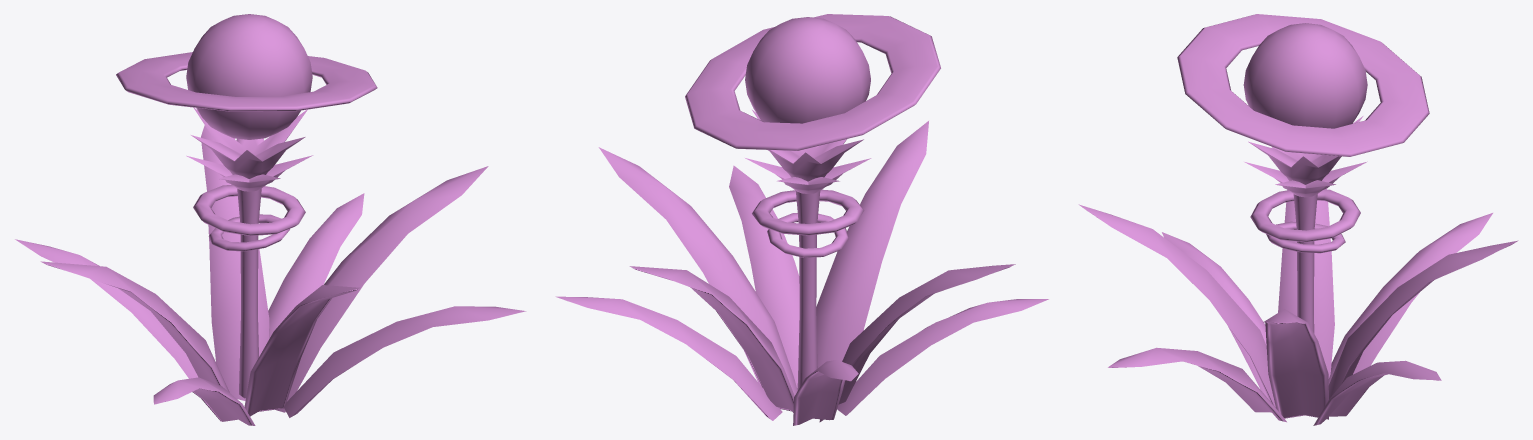
The model's file is planetPlant_stage3.fbx.
3 renders of one model, left to right at view 1: azimuth 30°, elevation 25°; view 2: azimuth 150°, elevation 25°; view 3: azimuth 270°, elevation 25°, orthographic. The views are drawn at different scales.
Parts seen in each view (by area): view 1: papple_fruit, papple_fruitRing_rotten1, papple_leaf06, papple_leaf02, papple_leaf01, papple_leaf08, papple_leaf04, papple_leaf05, papple_stem, papple_stemLeaf02, papple_stemRing01, papple_leaf07 (+3 smaller); view 2: papple_fruitRing_rotten1, papple_fruit, papple_leaf01, papple_leaf06, papple_leaf08, papple_leaf02, papple_leaf04, papple_leaf03, papple_leaf05, papple_stem, papple_leaf07, papple_stemRing01 (+3 smaller); view 3: papple_fruitRing_rotten1, papple_fruit, papple_leaf06, papple_leaf01, papple_leaf02, papple_leaf05, papple_leaf07, papple_leaf08, papple_stemRing01, papple_leaf04, papple_stem, papple_leaf03 (+3 smaller).
Boxes of the visible parts, bbox=[...] form: papple_fruit: bbox=[186, 14, 312, 139]; papple_fruitRing_rotten1: bbox=[116, 52, 377, 111]; papple_leaf06: bbox=[275, 166, 488, 412]; papple_leaf02: bbox=[201, 125, 269, 400]; papple_leaf01: bbox=[244, 285, 359, 416]; papple_leaf08: bbox=[284, 306, 526, 417]; papple_leaf04: bbox=[268, 193, 364, 338]; papple_leaf05: bbox=[40, 261, 229, 392]; papple_stem: bbox=[237, 188, 261, 398]; papple_stemLeaf02: bbox=[191, 108, 307, 178]; papple_stemRing01: bbox=[193, 184, 305, 235]; papple_leaf07: bbox=[15, 239, 197, 378]; papple_fruitRing_rotten1: bbox=[685, 14, 940, 150]; papple_fruit: bbox=[745, 17, 870, 123]; papple_leaf01: bbox=[816, 121, 928, 367]; papple_leaf06: bbox=[598, 147, 797, 409]; papple_leaf08: bbox=[729, 165, 799, 387]; papple_leaf02: bbox=[629, 266, 794, 412]; papple_leaf04: bbox=[555, 296, 782, 420]; papple_leaf03: bbox=[837, 299, 1048, 415]; papple_leaf05: bbox=[819, 264, 1015, 422]; papple_stem: bbox=[796, 191, 820, 390]; papple_leaf07: bbox=[793, 360, 858, 425]; papple_stemRing01: bbox=[752, 189, 864, 235]; papple_fruitRing_rotten1: bbox=[1177, 14, 1429, 156]; papple_fruit: bbox=[1243, 23, 1367, 128]; papple_leaf06: bbox=[1263, 309, 1328, 419]; papple_leaf01: bbox=[1078, 204, 1275, 407]; papple_leaf02: bbox=[1328, 240, 1518, 399]; papple_leaf05: bbox=[1278, 188, 1334, 378]; papple_leaf07: bbox=[1328, 213, 1492, 384]; papple_leaf08: bbox=[1108, 347, 1286, 422]; papple_stemRing01: bbox=[1250, 189, 1360, 242]; papple_leaf04: bbox=[1313, 360, 1441, 425]; papple_stem: bbox=[1293, 194, 1317, 333]; papple_leaf03: bbox=[1162, 232, 1269, 400].
Bounding box in the file's own units: 97.59 × 83.78 × 87.63.
